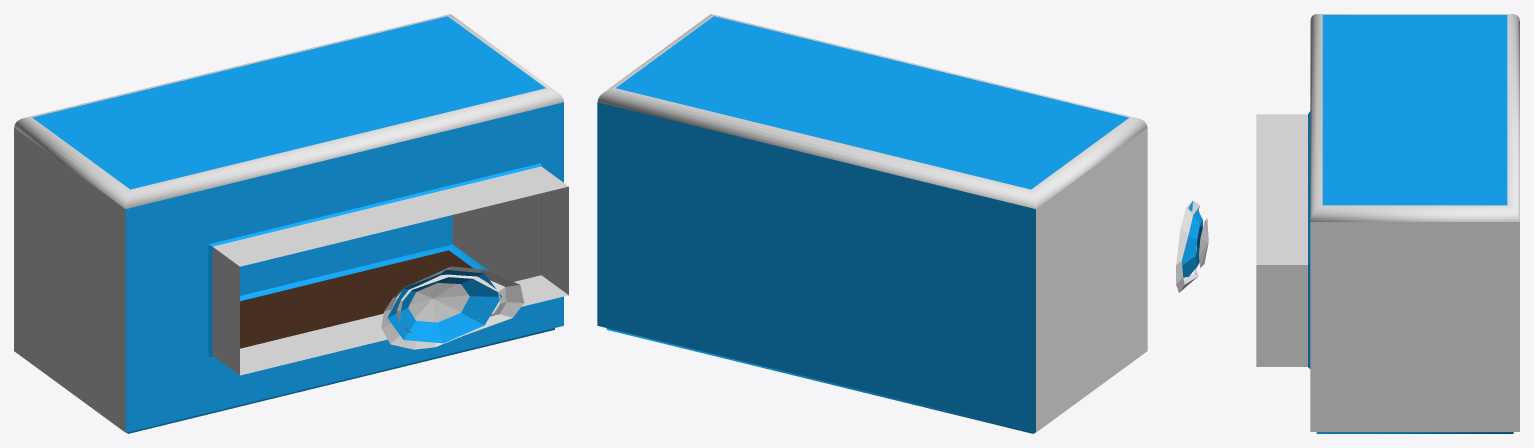
The model's file is room2.glb.
3 renders of one model, left to right at view 1: azimuth 30°, elevation 25°; view 2: azimuth 150°, elevation 25°; view 3: azimuth 270°, elevation 25°, orthographic. The views are drawn at different scales.
Parts seen in each view (by area): view 1: Cube, Suzanne.001; view 2: Cube; view 3: Cube, Suzanne.001.
Boxes of the visible parts, x1,y1,x2,y2 form: Cube: [14, 14, 568, 433]; Suzanne.001: [381, 266, 524, 349]; Cube: [597, 14, 1147, 433]; Cube: [1256, 14, 1519, 433]; Suzanne.001: [1176, 200, 1208, 292].
Bounding box in the file's own units: 28.64 × 15.02 × 20.71.
